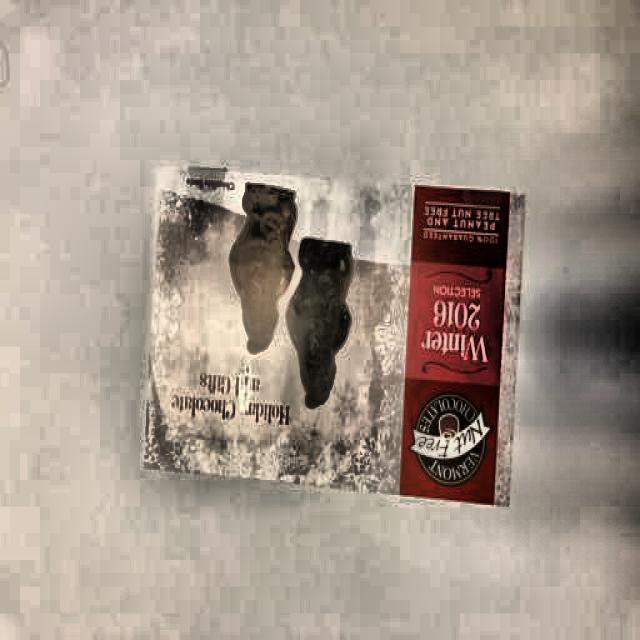paper: (146, 160, 529, 532)
